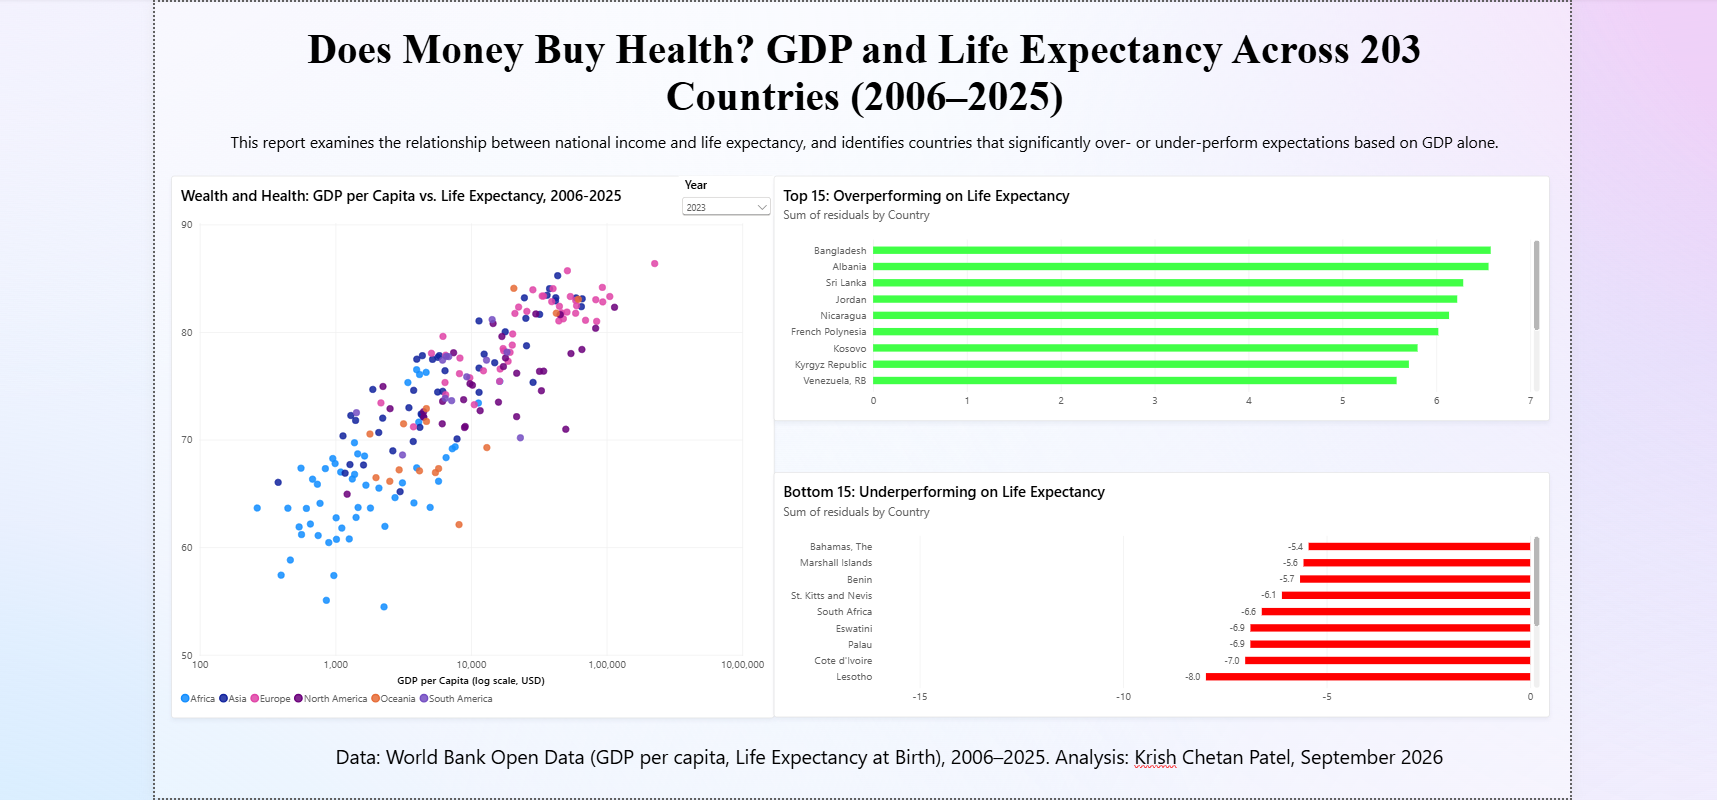

Layout of this report page (visuals, bound fields, positions):
{"tool":"powerbi","page":{"name":"Page 1","canvas":[1920,1080],"ordinal":0},"visuals":[{"type":"scatterChart","title":"Wealth and Health: GDP per Capita vs. Life Expectancy, 2006-2025","fields":{"Series":["Continent_Lookup.Continent"],"X":["GDP_LifeExp_Combined.GDP_per_capita"],"Y":["GDP_LifeExp_Combined.Life_Expectancy"]},"box":[22.5,235,818,736],"z":0},{"type":"slicer","fields":{"Values":["GDP_LifeExp_Combined.Year"]},"box":[710,235,130,54],"z":1000},{"type":"clusteredBarChart","title":"Top 15: Overperforming on Life Expectancy","fields":{"Category":["Country_Residuals.Country"],"Y":["Sum(Country_Residuals.residuals)"]},"box":[840,235,1052.5,332.5],"z":2000},{"type":"clusteredBarChart","title":"Bottom 15: Underperforming on Life Expectancy","fields":{"Category":["Country_Residuals.Country"],"Y":["Sum(Country_Residuals.residuals)"]},"box":[840,637.5,1052.5,332.5],"z":3000},{"type":"textbox","box":[110,32.5,1705,142.5],"z":4000},{"type":"textbox","box":[52.5,175,1820,60],"z":5000},{"type":"textbox","box":[100,1005,1792.5,75],"z":5001}]}

Visuals, with their boxes on the page's 1920x1080 design canvas (x1, y1, x2, y2). These are canvas units, not pixel positions in the 1717x800 screenshot, which may show the page scaled, cropped or inside an application window:
"Wealth and Health: GDP per Capita vs. Life Expectancy, 2006-2025" scatterChart: 22 235 840 971
slicer - GDP_LifeExp_Combined.Year: 710 235 840 289
"Top 15: Overperforming on Life Expectancy" clusteredBarChart: 840 235 1892 568
"Bottom 15: Underperforming on Life Expectancy" clusteredBarChart: 840 638 1892 970
textbox: 110 32 1815 175
textbox: 52 175 1872 235
textbox: 100 1005 1892 1080
